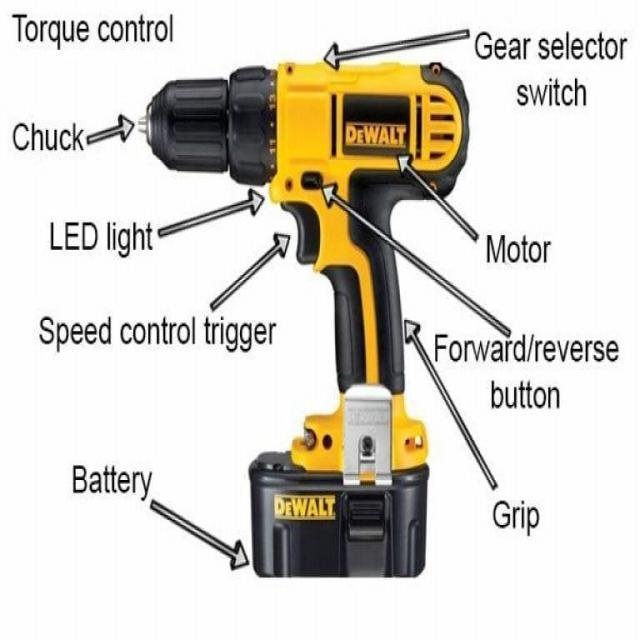drill: (138, 62, 470, 580)
